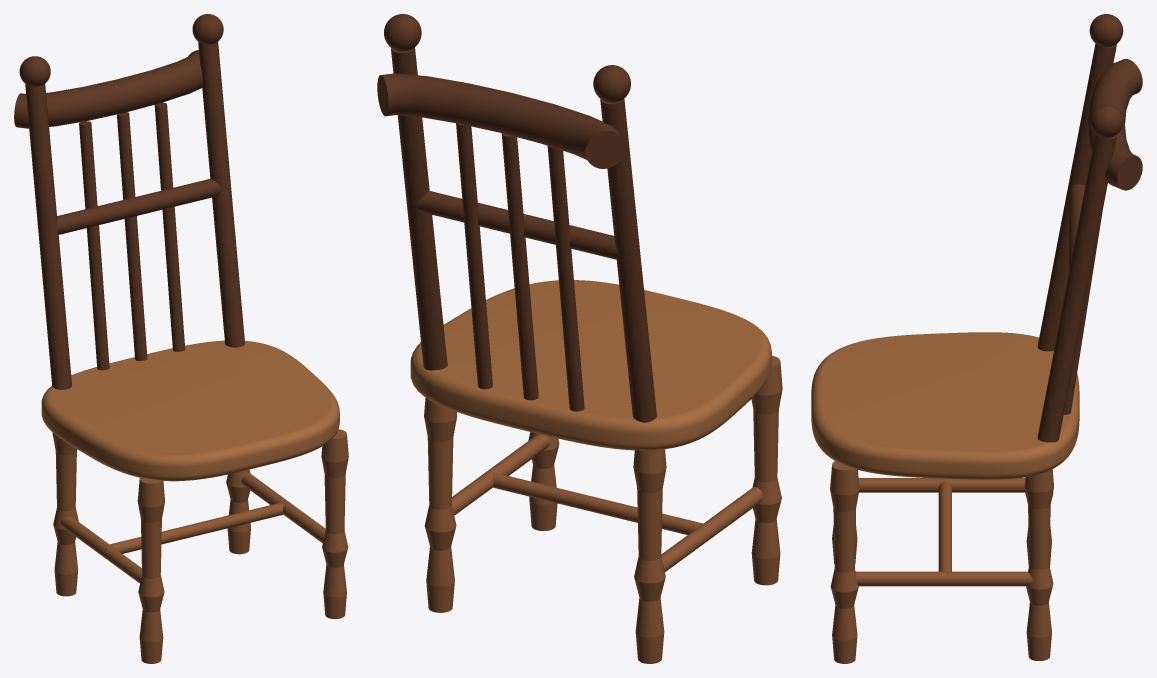
The model's file is chair.glb.
3 renders of one model, left to right at view 1: azimuth 30°, elevation 25°; view 2: azimuth 150°, elevation 25°; view 3: azimuth 270°, elevation 25°, orthographic. The views are drawn at different scales.
Visible parts, largest first — view 1: Seat, Post_L, Post_R, TopRail, Leg_FL, Leg_FR, MidRail, Leg_BL, Spindle_0, Spindle_2, Spindle_1, Stretch_M (+5 smaller); view 2: Seat, TopRail, Post_L, Post_R, Leg_BL, Leg_BR, Leg_FL, Spindle_1, Spindle_2, Spindle_0, MidRail, Stretch_M (+5 smaller); view 3: Seat, Post_R, Leg_FR, Leg_BR, Post_L, TopRail, Stretch_R, Stretch_L, Stretch_M, Finial_L, Finial_R, Spindle_2 (+1 smaller).
Part boxes in pixels (x1=…): Seat: x1=41, y1=340, x2=339, y2=481; Post_L: x1=25, y1=84, x2=71, y2=389; Post_R: x1=198, y1=42, x2=244, y2=347; TopRail: x1=14, y1=50, x2=202, y2=128; Leg_FL: x1=137, y1=477, x2=164, y2=663; Leg_FR: x1=321, y1=429, x2=348, y2=618; MidRail: x1=56, y1=178, x2=220, y2=234; Leg_BL: x1=52, y1=433, x2=78, y2=596; Spindle_0: x1=79, y1=121, x2=109, y2=370; Spindle_2: x1=154, y1=102, x2=185, y2=351; Spindle_1: x1=117, y1=112, x2=147, y2=360; Stretch_M: x1=109, y1=502, x2=283, y2=553; Seat: x1=410, y1=280, x2=771, y2=450; TopRail: x1=377, y1=73, x2=625, y2=168; Post_L: x1=600, y1=99, x2=656, y2=422; Post_R: x1=390, y1=47, x2=447, y2=370; Leg_BL: x1=633, y1=449, x2=666, y2=663; Leg_BR: x1=424, y1=397, x2=457, y2=612; Leg_FL: x1=751, y1=355, x2=782, y2=585; Spindle_1: x1=501, y1=133, x2=538, y2=400; Spindle_2: x1=456, y1=123, x2=492, y2=389; Spindle_0: x1=547, y1=146, x2=584, y2=411; MidRail: x1=412, y1=191, x2=621, y2=259; Stretch_M: x1=492, y1=472, x2=703, y2=534; Seat: x1=811, y1=332, x2=1079, y2=479; Post_R: x1=1037, y1=134, x2=1116, y2=442; Leg_FR: x1=830, y1=461, x2=859, y2=663; Leg_BR: x1=1024, y1=469, x2=1053, y2=660; Post_L: x1=1037, y1=43, x2=1116, y2=351; TopRail: x1=1088, y1=59, x2=1142, y2=190; Stretch_R: x1=855, y1=571, x2=1032, y2=586; Stretch_L: x1=858, y1=478, x2=1025, y2=492; Stretch_M: x1=938, y1=480, x2=951, y2=571; Finial_L: x1=1089, y1=14, x2=1123, y2=47; Finial_R: x1=1089, y1=104, x2=1123, y2=137; Spindle_2: x1=1063, y1=213, x2=1102, y2=414.
Size of the model in its own units: 0.4475 by 0.905 by 0.4941.
